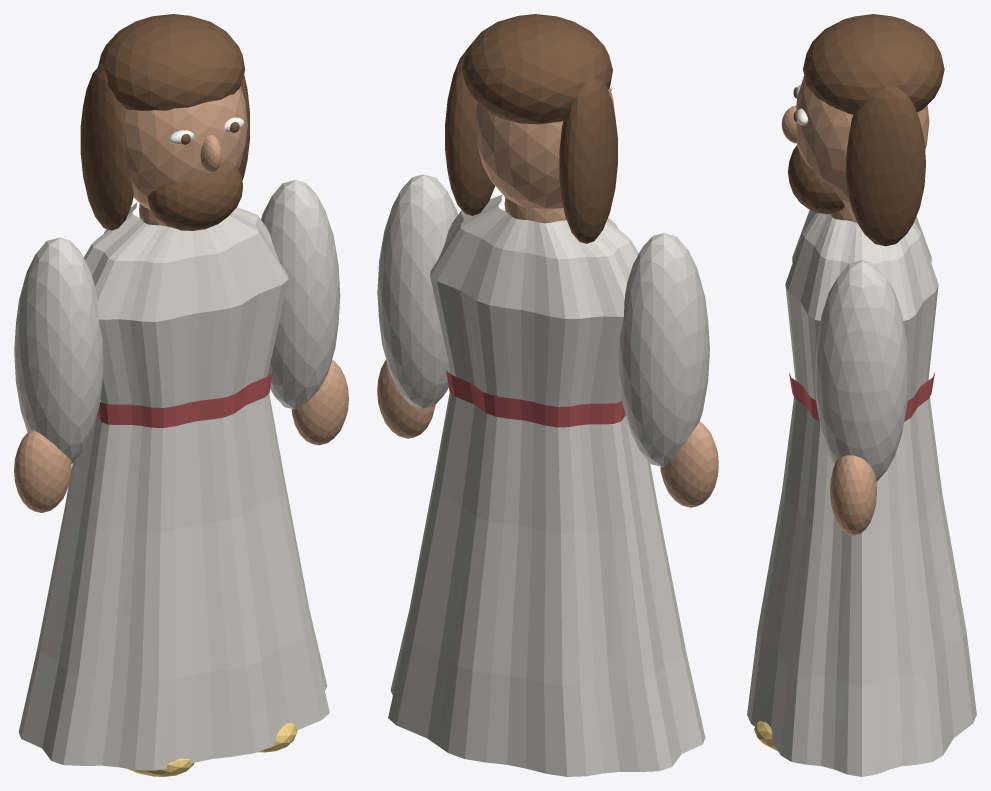
Rendered from jesus.glb.
The picture shows the model from 3 angles, left to right: view 1: azimuth 30°, elevation 25°; view 2: azimuth 150°, elevation 25°; view 3: azimuth 270°, elevation 25°; orthographic projection. The views are drawn at different scales.
Visible parts, largest first — view 1: body_0, body_8, body_15, body_3, body_2, body_11, body_19, body_20, body_9, body_16, body_4; view 2: body_0, body_8, body_15, body_3, body_11, body_2, body_18, body_20, body_9, body_16, body_1; view 3: body_0, body_15, body_3, body_18, body_2, body_16, body_19, body_20, body_4.
Boxes of the visible parts, x1,y1,x2,y2 form: body_0: [18, 202, 329, 770]; body_8: [14, 237, 103, 463]; body_15: [261, 180, 340, 409]; body_3: [98, 14, 245, 110]; body_2: [124, 87, 247, 209]; body_11: [80, 64, 133, 230]; body_19: [147, 168, 242, 230]; body_20: [96, 372, 272, 427]; body_9: [14, 430, 71, 512]; body_16: [291, 360, 348, 445]; body_4: [200, 135, 221, 172]; body_0: [388, 194, 705, 776]; body_8: [619, 233, 709, 467]; body_15: [377, 174, 457, 408]; body_3: [462, 14, 612, 124]; body_11: [559, 77, 617, 243]; body_2: [476, 87, 614, 209]; body_18: [445, 47, 494, 215]; body_20: [446, 370, 625, 427]; body_9: [660, 421, 718, 507]; body_16: [377, 360, 435, 438]; body_1: [504, 197, 566, 223]; body_0: [747, 210, 976, 776]; body_15: [814, 260, 909, 481]; body_3: [803, 14, 944, 114]; body_18: [845, 86, 925, 246]; body_2: [796, 76, 929, 207]; body_16: [830, 455, 876, 535]; body_19: [788, 145, 844, 214]; body_20: [789, 373, 934, 421]; body_4: [781, 105, 796, 143].
Bounding box in the file's own units: 1.12 × 2.31 × 0.6816.
